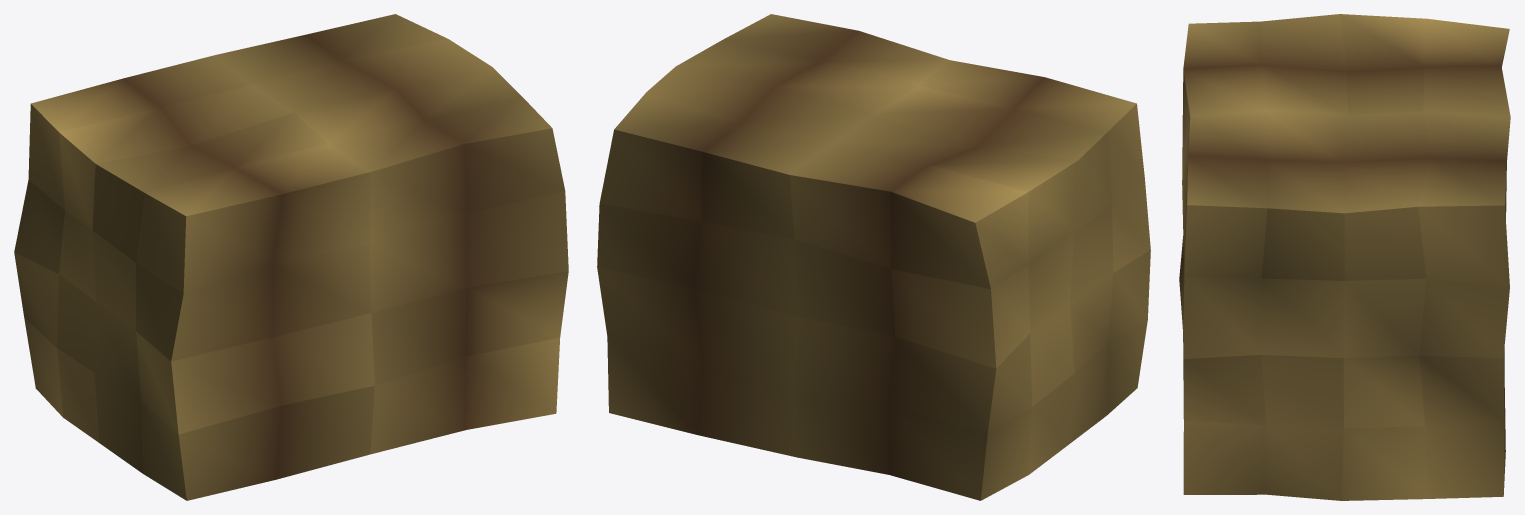
The model's file is hay_bale.glb.
3 views of the same model, side by side, from view 1: azimuth 30°, elevation 25°; view 2: azimuth 150°, elevation 25°; view 3: azimuth 270°, elevation 25° (orthographic).
Parts seen in each view (by area): view 1: hay_bale; view 2: hay_bale; view 3: hay_bale.
Part boxes in pixels (x1,y1,x2,y2): hay_bale: (14, 14, 568, 500); hay_bale: (597, 14, 1150, 500); hay_bale: (1179, 14, 1510, 500).
Bounding box in the file's own units: 1.32 × 0.9247 × 0.9371.
